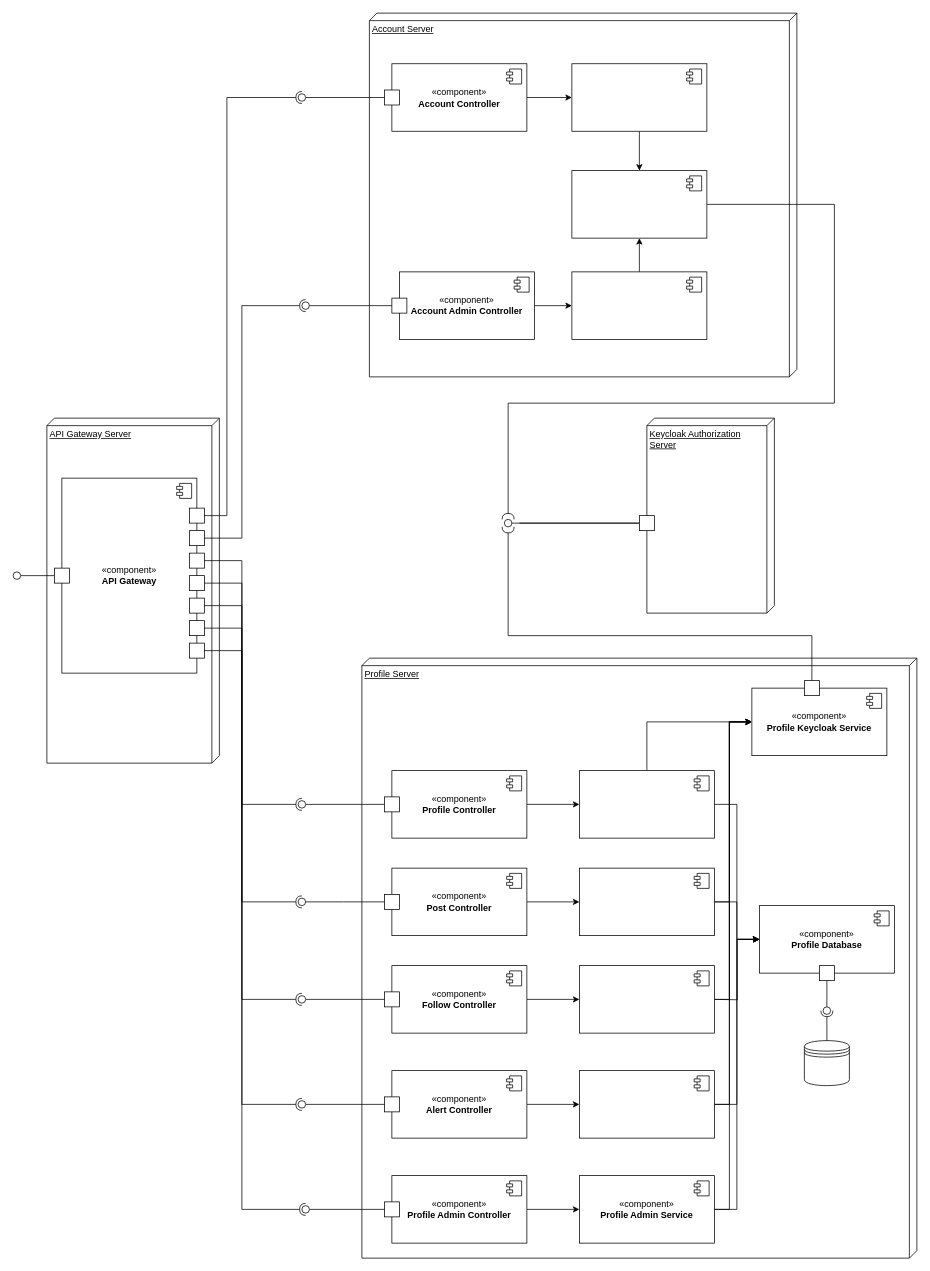
Some shapes in this 930 by 1271 pixel diagram are drawn without their labels. The centre of each missing label's shape, as x and y in pixels:
«component» Account Admin Service: the point at 639,305
«component» Account Keycloak Service: the point at 639,204
«component» Account Service: the point at 639,97
«component» Alert Service: the point at 646,1104
«component» Follow Service: the point at 646,999
«component» Post Service: the point at 646,901
«component» Profile Service: the point at 646,804
